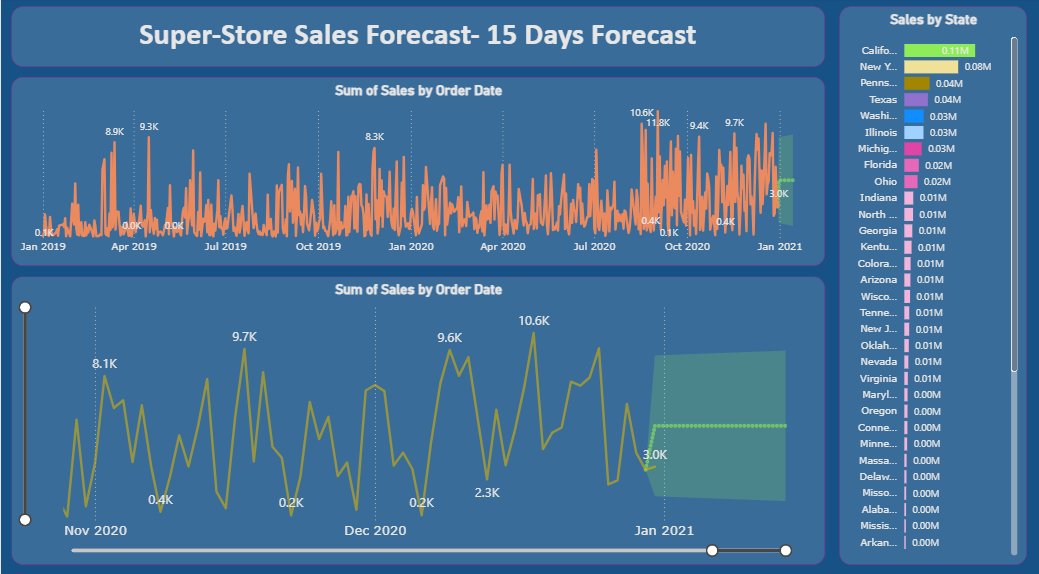

What the dashboard file says about the page in this screenshot:
{"tool":"powerbi","page":{"name":"Page 2","canvas":[1280,720],"ordinal":1},"visuals":[{"type":"lineChart","fields":{"Y":["Sum(SuperStore_Sales_Dataset.Sales)"],"Category":["SuperStore_Sales_Dataset.Order Date"]},"box":[13.6,99.9,999.4,231.7],"z":0},{"type":"lineChart","fields":{"Y":["Sum(SuperStore_Sales_Dataset.Sales)"],"Category":["SuperStore_Sales_Dataset.Order Date"]},"box":[13.6,345.2,999.4,354.3],"z":1},{"type":"clusteredBarChart","title":"Sales by State","fields":{"Y":["Sum(SuperStore_Sales_Dataset.Sales)"],"Category":["SuperStore_Sales_Dataset.State"]},"box":[1029.7,13.6,230.2,685.9],"z":2},{"type":"textbox","box":[13.6,13.6,999.4,74.2],"z":3}]}

Visuals, with their boxes in screenshot pixels (x1, y1, x2, y2), scaled from the page's 1280x720 canvas onto the 1039x574 screenshot:
lineChart - Sum(SuperStore_Sales_Dataset.Sales) x SuperStore_Sales_Dataset.Order Date: box=[11, 80, 822, 264]
lineChart - Sum(SuperStore_Sales_Dataset.Sales) x SuperStore_Sales_Dataset.Order Date: box=[11, 275, 822, 558]
"Sales by State" clusteredBarChart: box=[836, 11, 1023, 558]
textbox: box=[11, 11, 822, 70]
